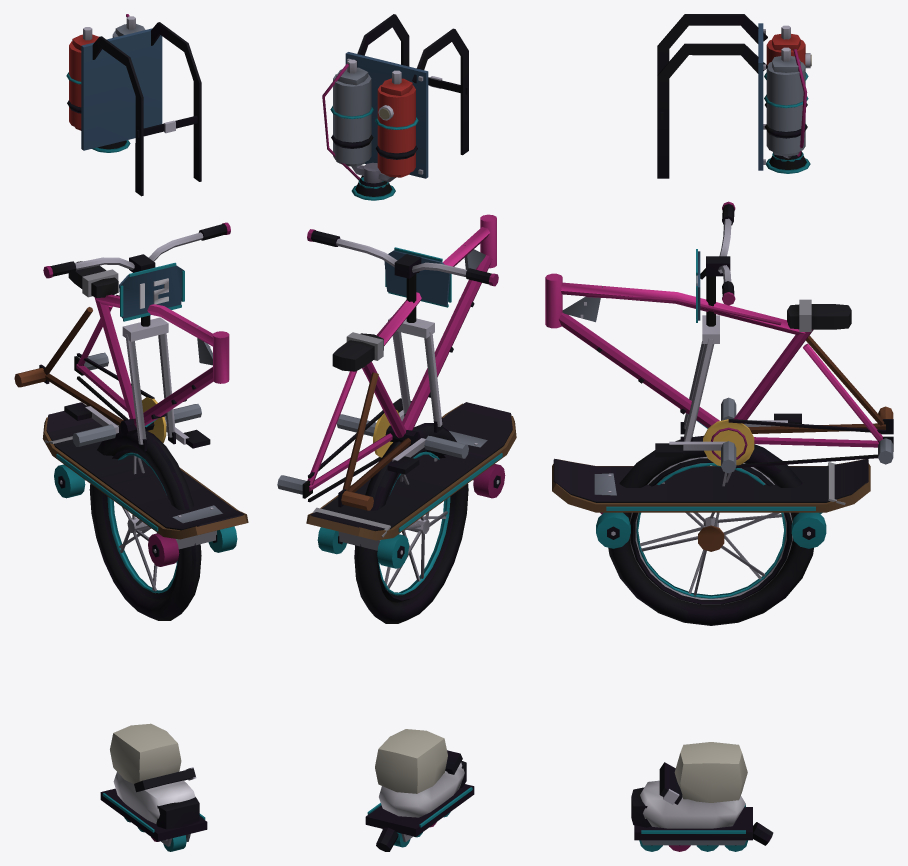
Rendered from rodas.glb.
3 renders of one model, left to right at view 1: azimuth 30°, elevation 25°; view 2: azimuth 150°, elevation 25°; view 3: azimuth 270°, elevation 25°, orthographic. The views are drawn at different scales.
Visible parts, largest first — view 1: jato, bmx_quadro, skate, patins, bmx_guidao, bmx_roda_f, bmx_roda_t; view 2: jato, bmx_quadro, skate, patins, bmx_guidao, bmx_roda_f, bmx_roda_t; view 3: bmx_quadro, skate, bmx_roda_f, patins, jato, bmx_guidao, bmx_roda_t.
Part boxes in pixels (x1,y1,x2,y2): jato: [66, 14, 201, 196]; bmx_quadro: [14, 261, 229, 448]; skate: [42, 405, 248, 566]; patins: [100, 723, 207, 851]; bmx_guidao: [43, 222, 230, 451]; bmx_roda_f: [89, 427, 201, 619]; bmx_roda_t: [102, 425, 196, 620]; jato: [322, 14, 468, 200]; bmx_quadro: [277, 214, 496, 510]; skate: [306, 402, 516, 568]; patins: [365, 729, 474, 851]; bmx_guidao: [307, 229, 498, 432]; bmx_roda_f: [354, 423, 468, 622]; bmx_roda_t: [359, 423, 455, 623]; bmx_quadro: [545, 273, 893, 473]; skate: [552, 458, 870, 548]; bmx_roda_f: [608, 435, 813, 625]; patins: [631, 742, 773, 851]; jato: [657, 14, 811, 178]; bmx_guidao: [680, 201, 735, 441]; bmx_roda_t: [630, 458, 791, 604].
Size of the model in its own units: 0.624 by 2.59 by 0.9975.
